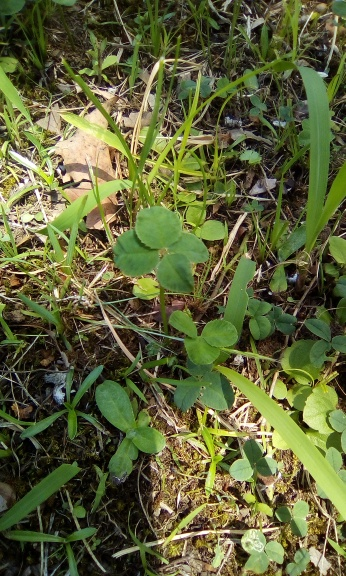4leaf: (112, 204, 210, 295)
